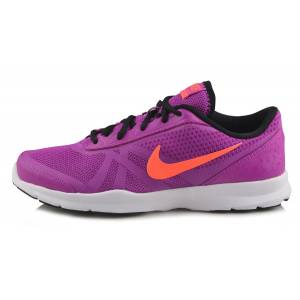nike: (145, 141, 244, 182)
